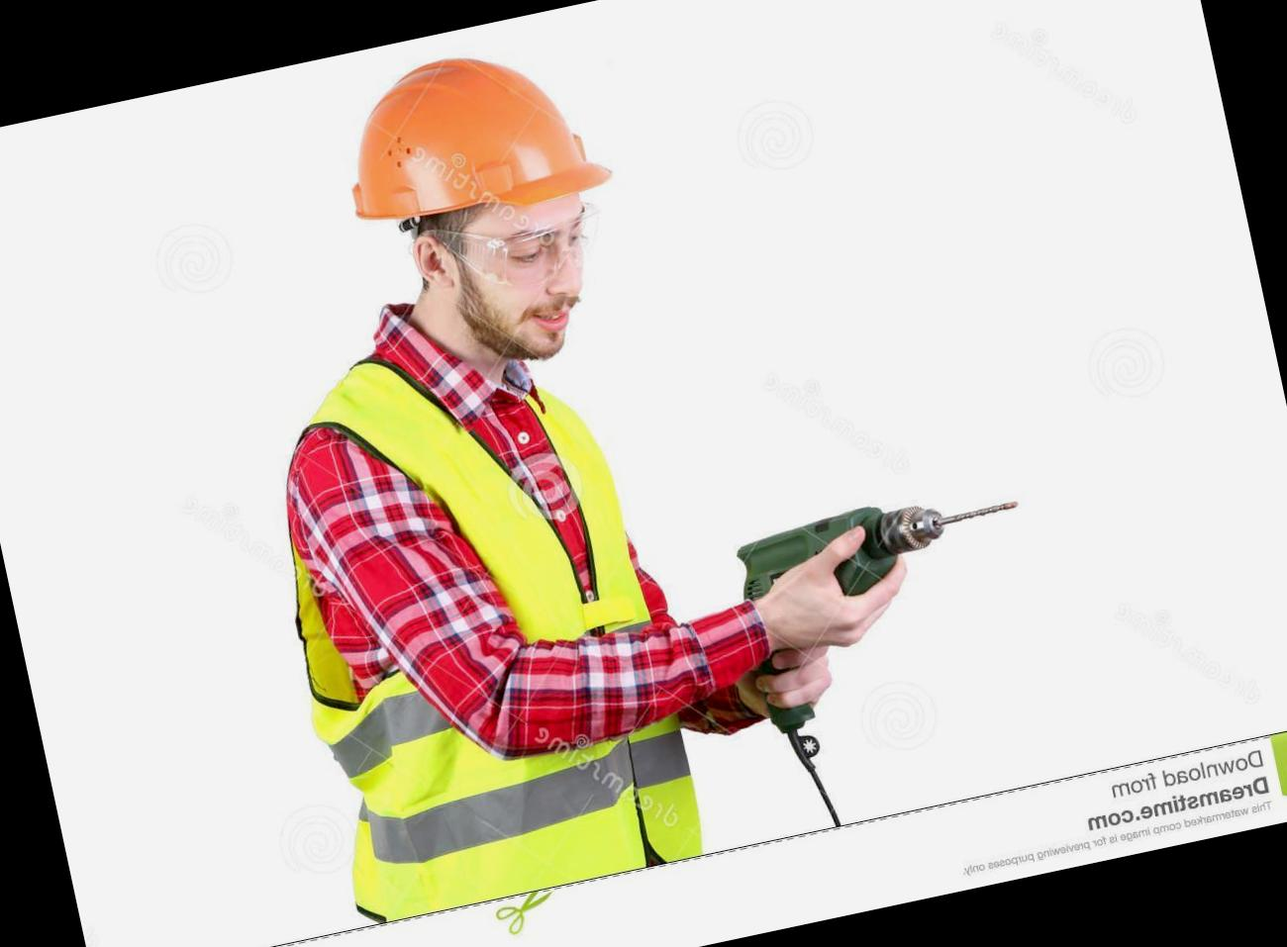helmet: (314, 36, 629, 276)
person: (161, 12, 783, 930)
